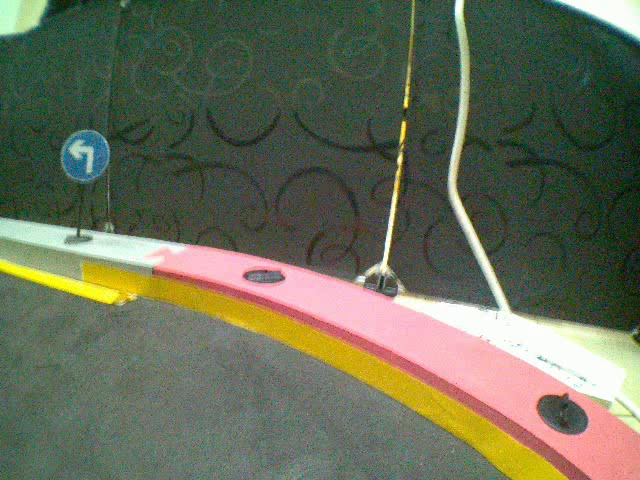turn: (59, 128, 109, 183)
